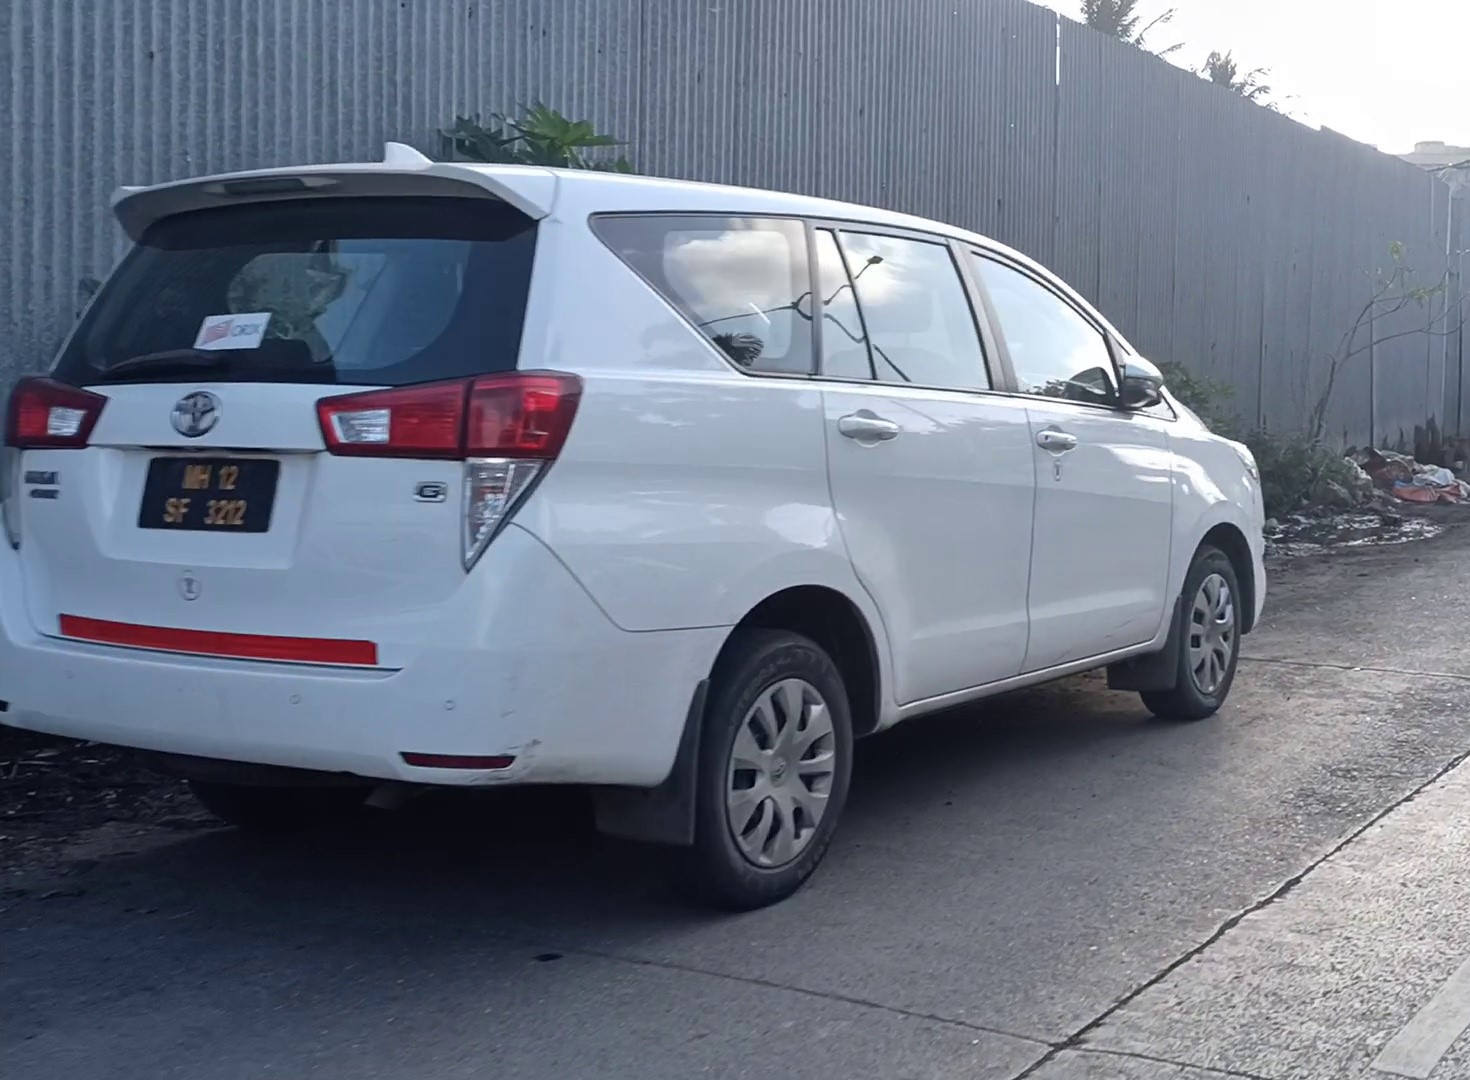MH12SF3212: (134, 459, 281, 535)
